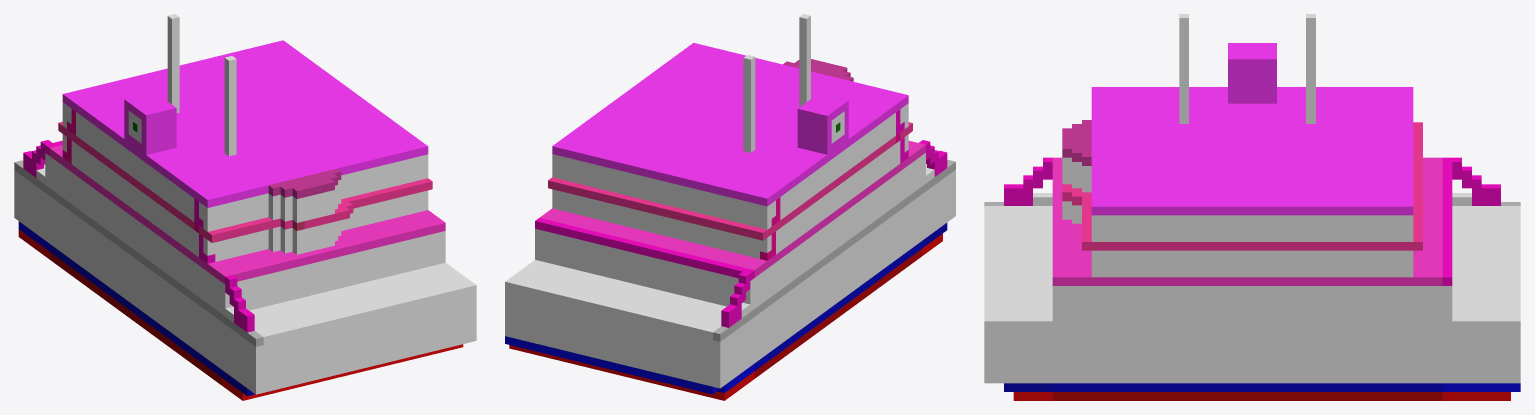
Rendered from sakurajimaferi.glb.
The picture shows the model from 3 angles, left to right: view 1: azimuth 30°, elevation 25°; view 2: azimuth 150°, elevation 25°; view 3: azimuth 270°, elevation 25°; orthographic projection. The views are drawn at different scales.
Parts seen in each view (by area): view 1: Untitled; view 2: Untitled; view 3: Untitled.
Part boxes in pixels (x1,y1,x2,y2): Untitled: (14, 14, 476, 400); Untitled: (505, 14, 955, 400); Untitled: (984, 14, 1520, 400).
Bounding box in the file's own units: 2.9 × 3.4 × 5.5.
1 material, 1 textured.
